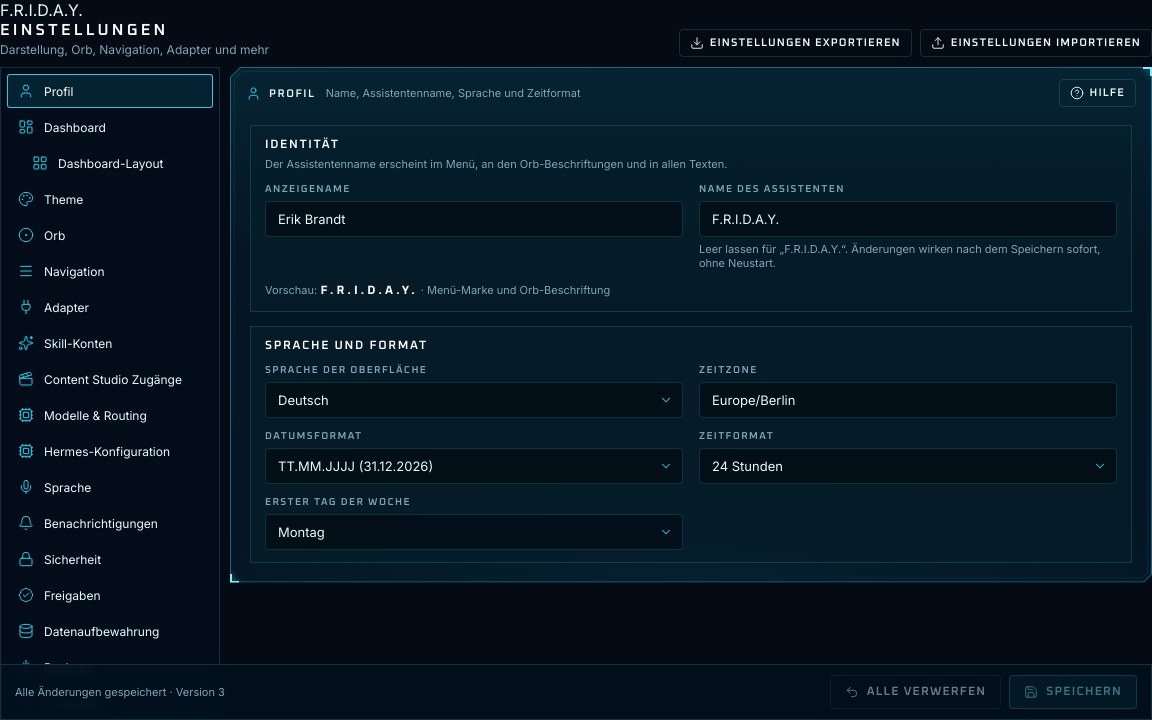
Test case: profile and assistant name › explains a 409 conflict and saves after the reload
Type "X" into the field labelled "Anzeigename". click: [474, 218]
box: 265,200 -> 683,236
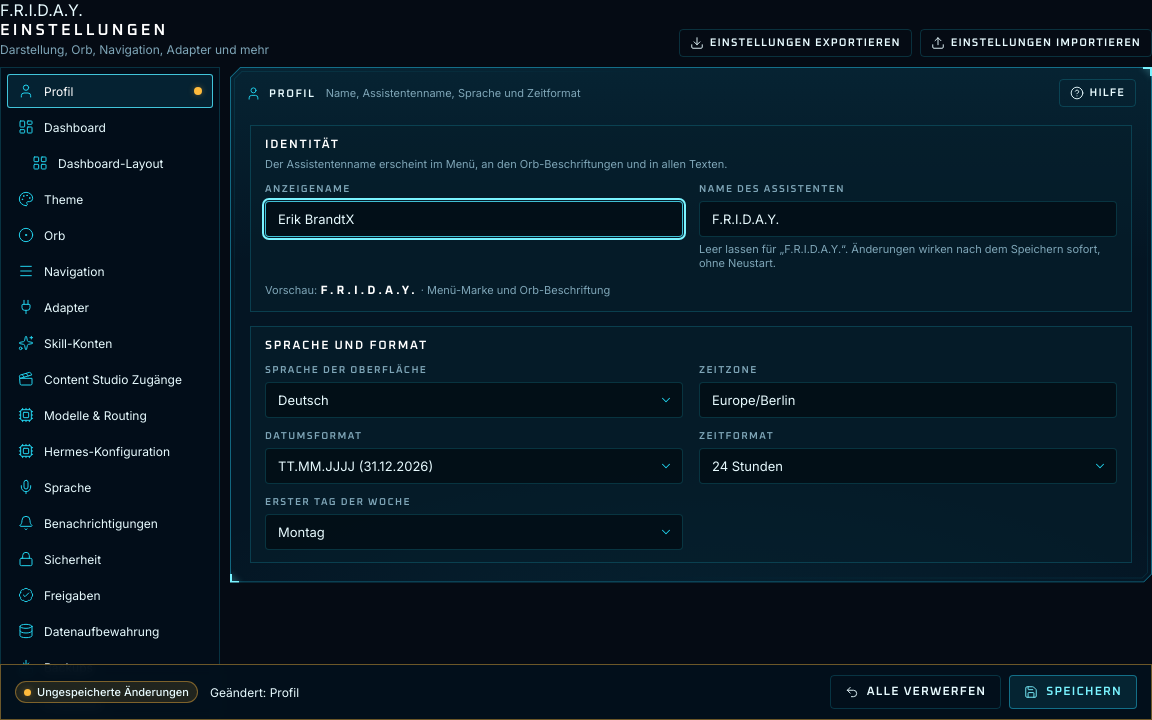
Click the button "Speichern". click: [1073, 692]
box: 1009,675 -> 1137,709
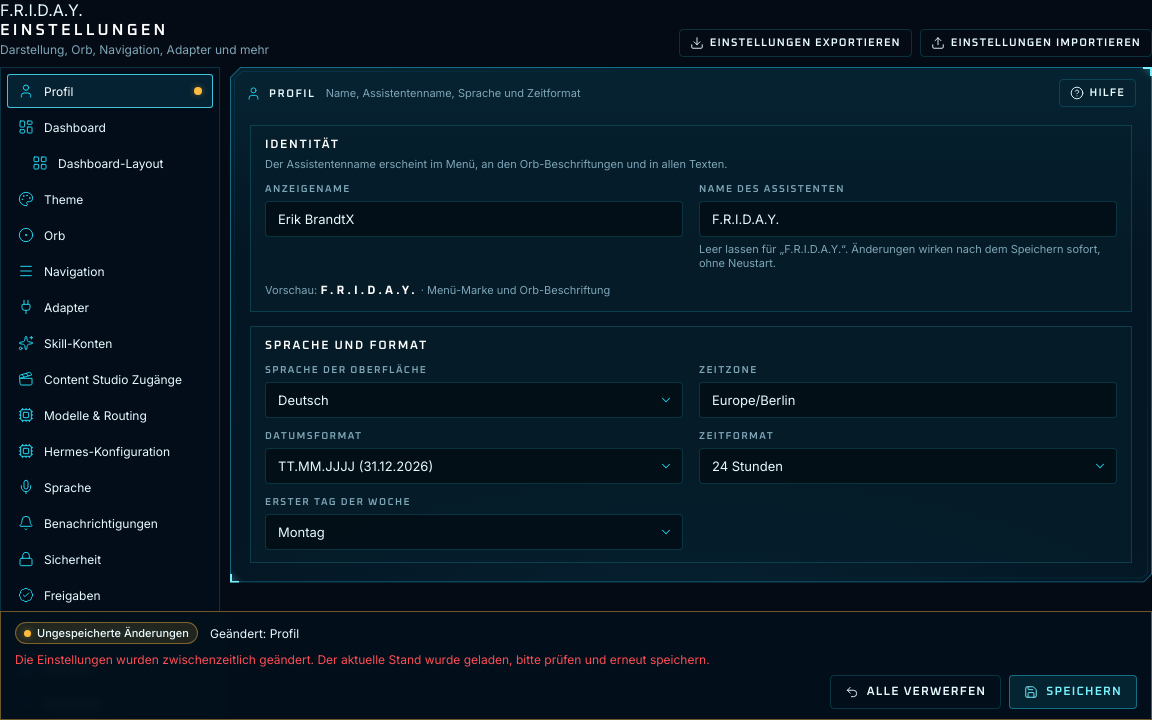
Click the button "Speichern". click: [1073, 692]
box: 1009,675 -> 1137,709
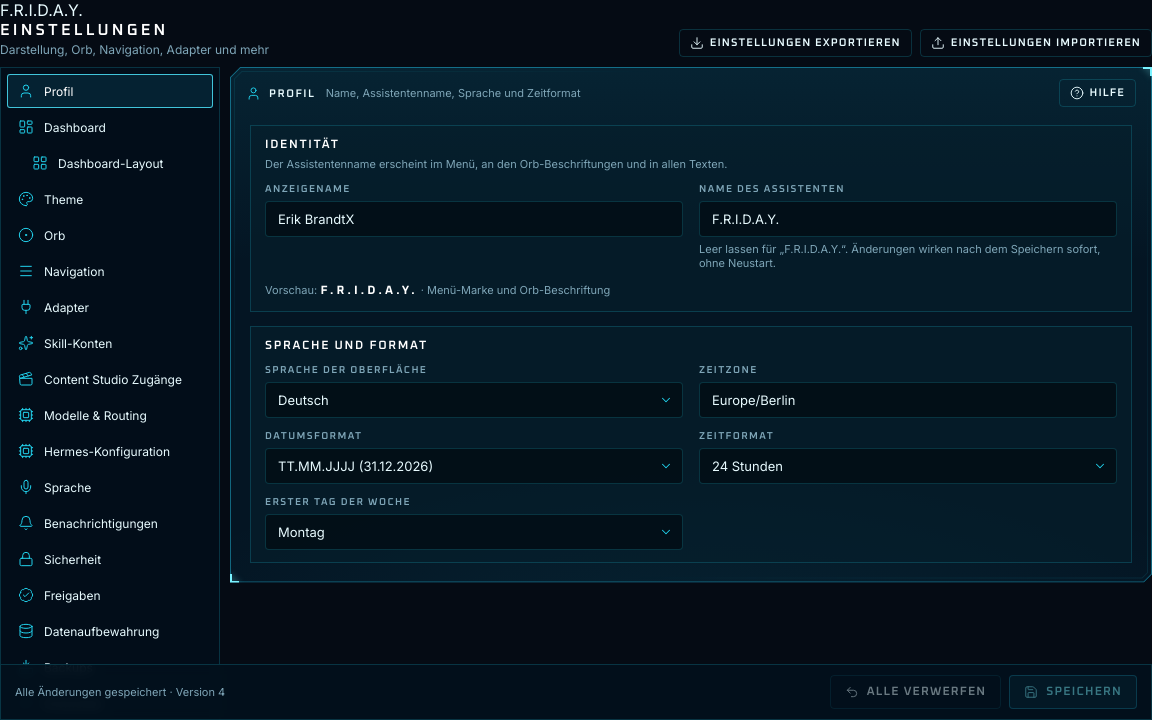
Check: the text "Alle Änderungen gespeichert · Version 4" is shown, box 15,684 -> 225,700
